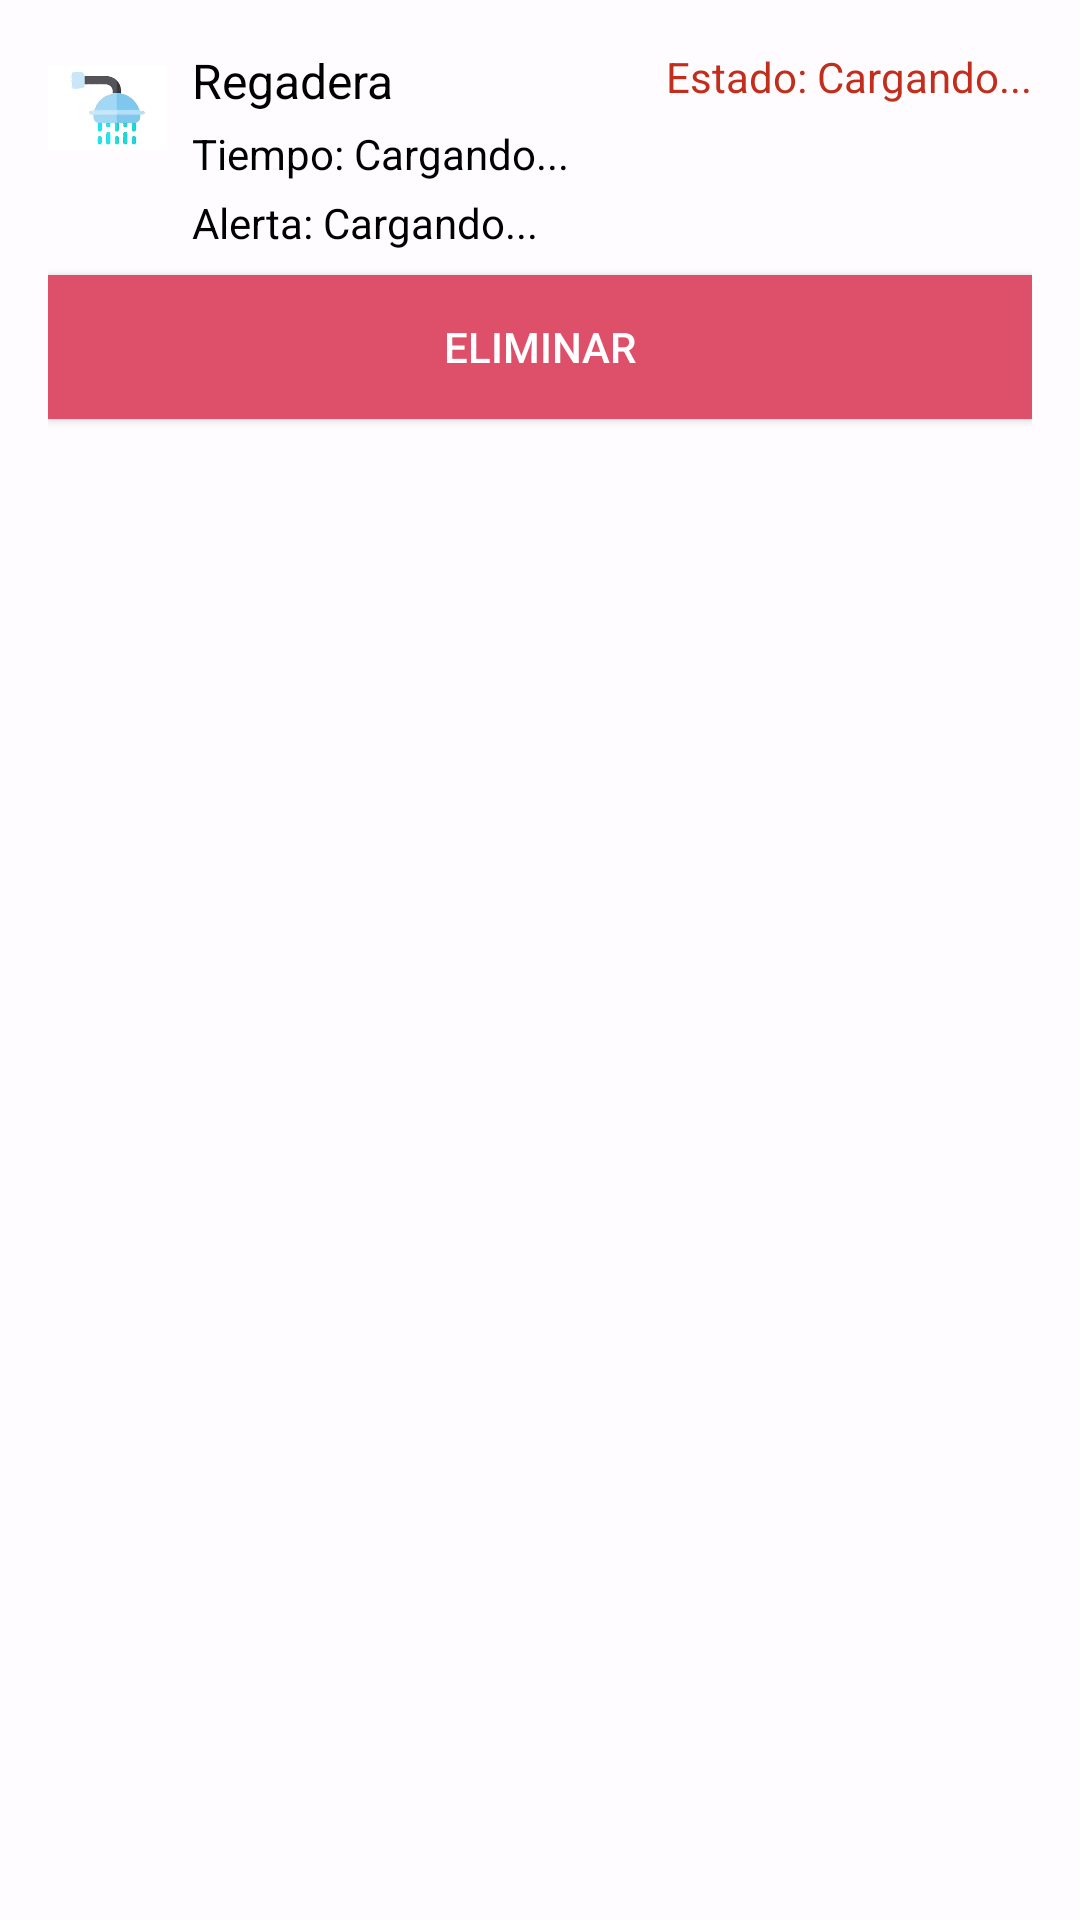

Icons on this 1080*1920 Android screen, each with the point to tap as point (x, y):
shower: point (108, 108)
